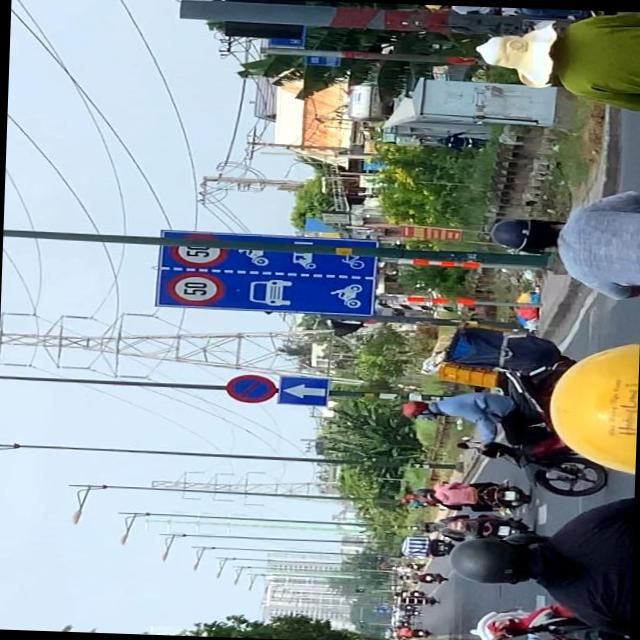I-407a: (276, 376, 328, 405)
P-131a: (225, 372, 278, 402)
